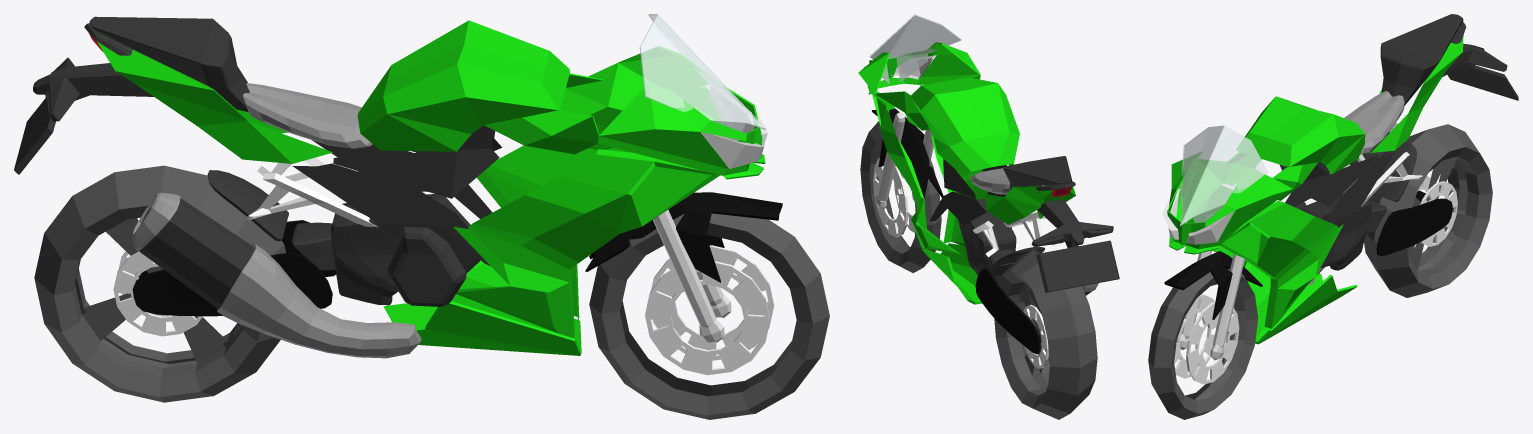
File: motocycle.glb
3 renders of one model, left to right at view 1: azimuth 30°, elevation 25°; view 2: azimuth 150°, elevation 25°; view 3: azimuth 270°, elevation 25°, orthographic. The views are drawn at different scales.
Visible parts, largest first — view 1: Plane.011, wheel-front.002, sit.002, wheel-front, Plane.010, sit.006, Plane.020, wheel-front.001, sit.001, sit.003, Plane.014, Plane.012 (+14 smaller); view 2: wheel-front.002, sit.002, sit.009, Plane.010, wheel-front, Plane.011, Plane.012, Plane.022, Plane.023, sit.001, sit.006, sit.003 (+10 smaller); view 3: wheel-front.002, Plane.011, Plane.010, wheel-front, sit.002, Plane.012, sit.003, sit.006, wheel-front.001, Plane.022, Plane.023, sit.009 (+10 smaller).
Part boxes in pixels (x1,y1,x2,y2): Plane.011: (453, 107, 719, 337); wheel-front.002: (34, 165, 285, 402); sit.002: (357, 20, 569, 151); wheel-front: (589, 213, 829, 419); Plane.010: (484, 46, 765, 179); sit.006: (292, 125, 501, 266); Plane.020: (217, 244, 421, 358); wheel-front.001: (645, 245, 774, 375); sit.001: (97, 36, 333, 163); sit.003: (89, 16, 249, 112); Plane.014: (383, 282, 581, 355); Plane.012: (639, 14, 766, 141); wheel-front.002: (994, 250, 1097, 419); sit.002: (910, 77, 1019, 176); sit.009: (1031, 199, 1119, 292); Plane.010: (858, 42, 980, 130); wheel-front: (860, 121, 941, 273); Plane.011: (872, 84, 988, 254); Plane.012: (869, 14, 961, 84); Plane.022: (975, 268, 1040, 353); Plane.023: (958, 198, 1016, 283); sit.001: (984, 186, 1075, 224); sit.006: (929, 158, 1006, 225); sit.003: (1003, 156, 1072, 189); wheel-front.002: (1364, 124, 1492, 297); Plane.011: (1183, 185, 1343, 328); Plane.010: (1167, 152, 1317, 254); wheel-front: (1148, 269, 1258, 419); sit.002: (1236, 96, 1365, 174); Plane.012: (1180, 125, 1267, 226); sit.003: (1380, 14, 1463, 105); sit.006: (1280, 152, 1394, 223); wheel-front.001: (1174, 294, 1239, 384); Plane.022: (1376, 190, 1452, 256); Plane.023: (1302, 194, 1371, 270); sit.009: (1442, 43, 1518, 100).
Size of the model in its own units: 1.92 by 1.26 by 1.5.
